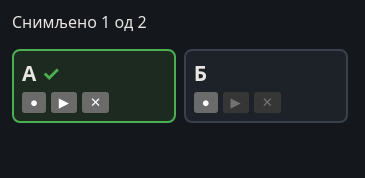
Recorder › a failed delete shows its own line
The image size is (365, 178).
Click the button named "Обриши" at (96, 102), box [82,92,109,113]
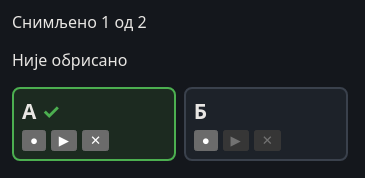
Expected: the message reads "Није обрисано", [12,49,128,71]
